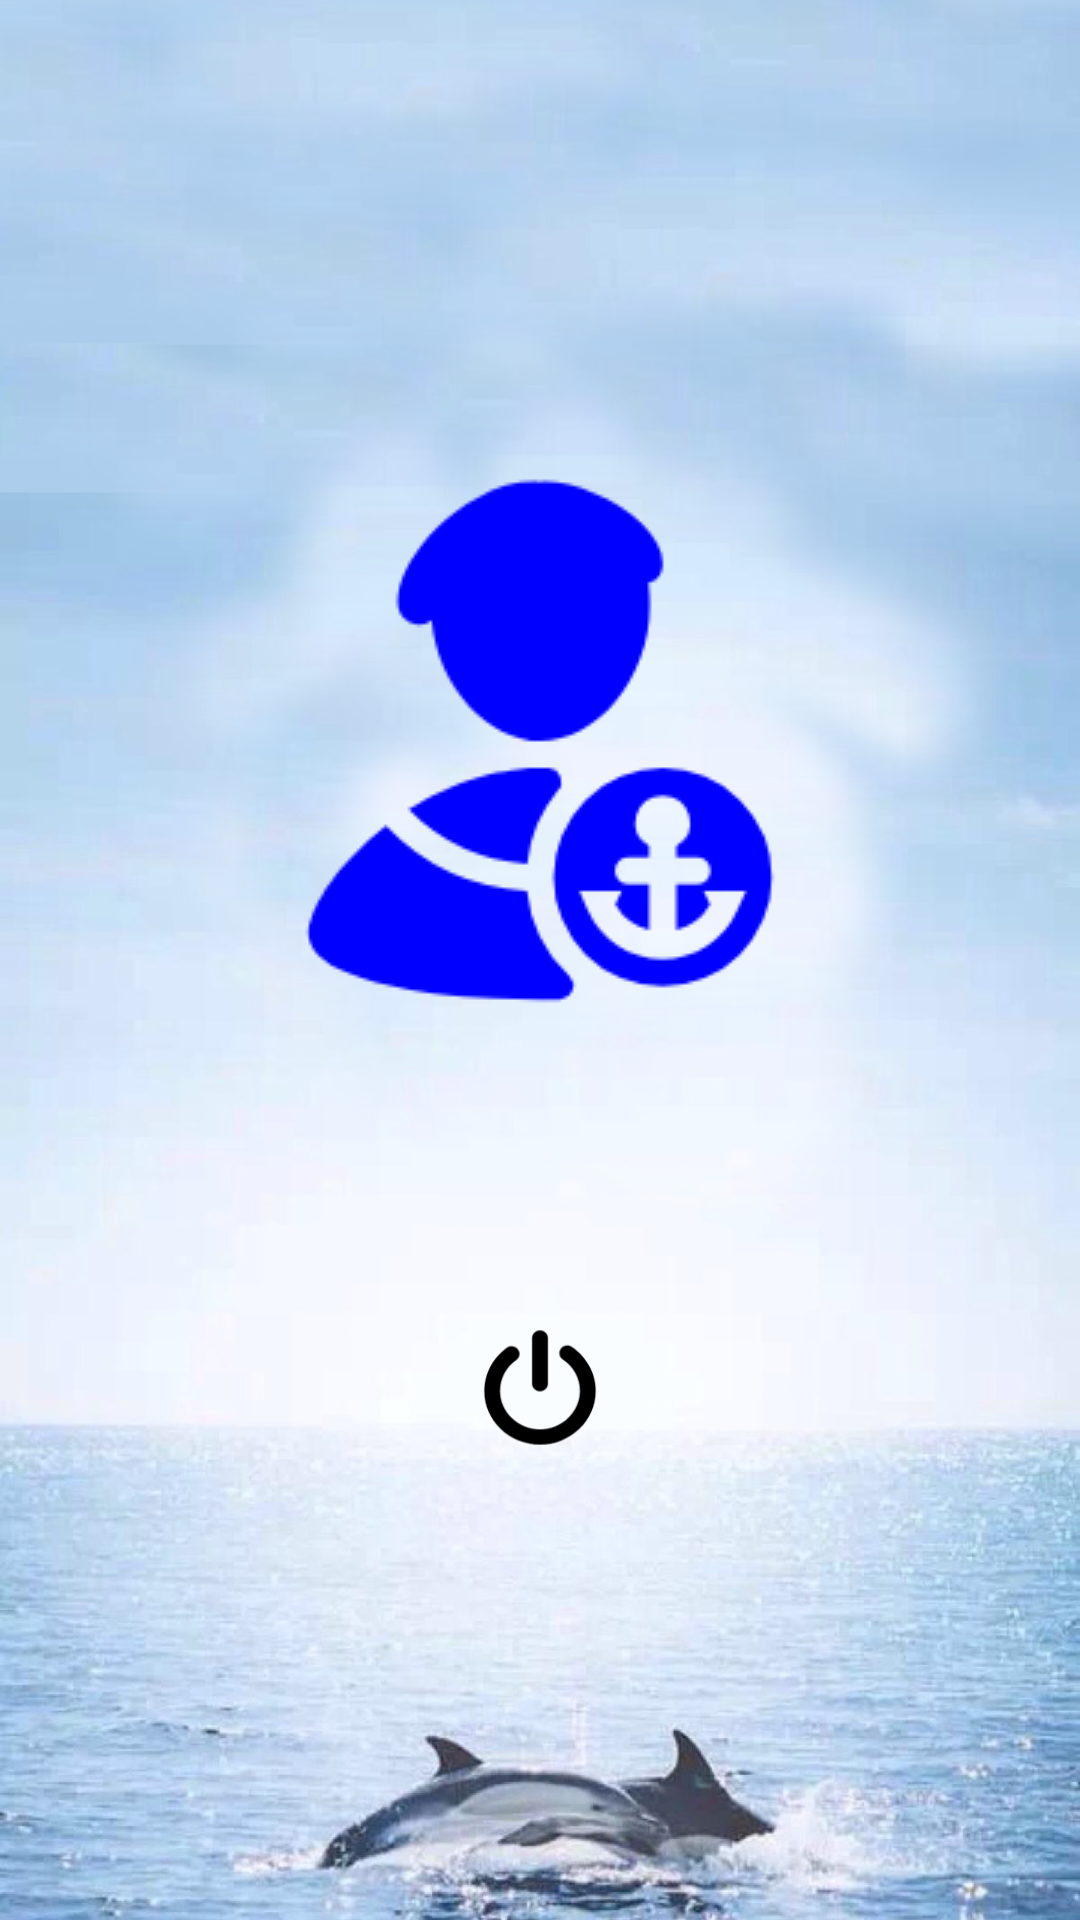

Icon bounding boxes for this 1080w x 1920h phone screenshot, format (left=x1, top=y1, right=x2, bottom=y2):
end: (left=484, top=1330, right=596, bottom=1445)
